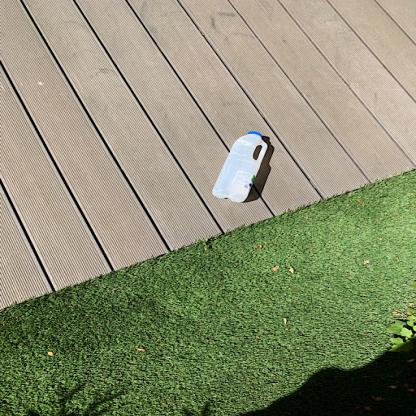trash: (213, 128, 273, 204)
